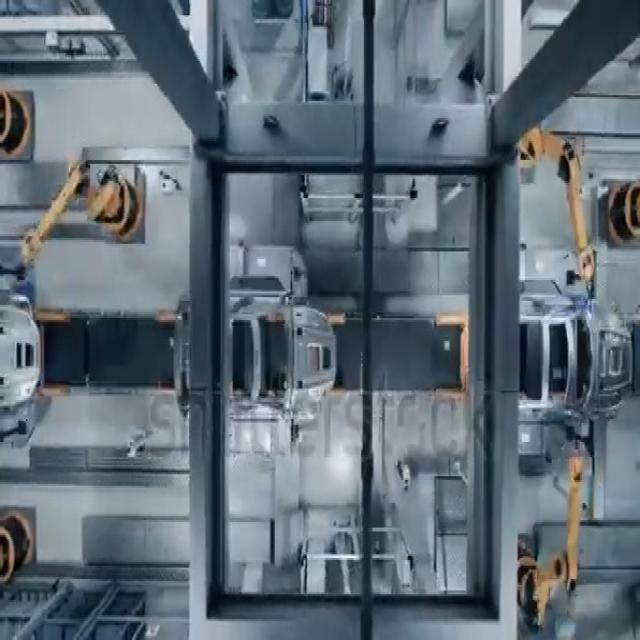auto: (169, 278, 345, 444), (467, 284, 633, 432)
robot: (481, 80, 600, 297), (515, 442, 598, 640), (53, 137, 155, 269)
